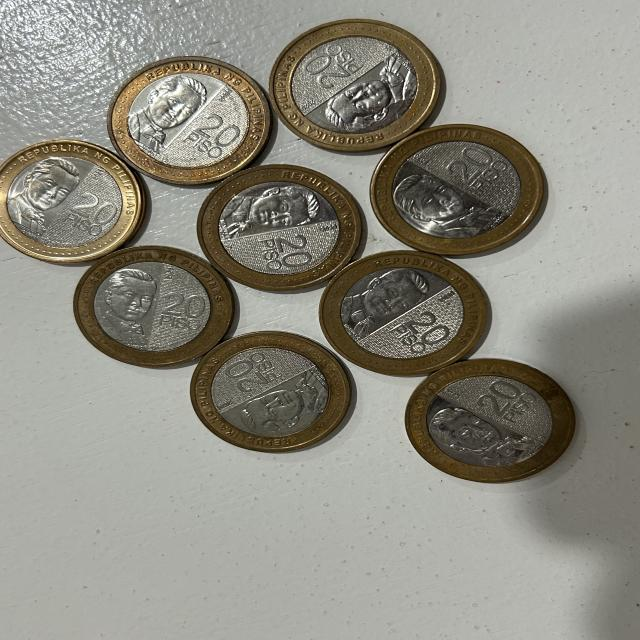20_New_Front: (53, 194, 132, 242), (168, 111, 254, 152), (441, 144, 509, 195), (256, 231, 323, 279), (468, 379, 540, 422), (289, 45, 368, 84), (152, 286, 210, 335), (386, 311, 453, 352), (216, 354, 282, 390)
